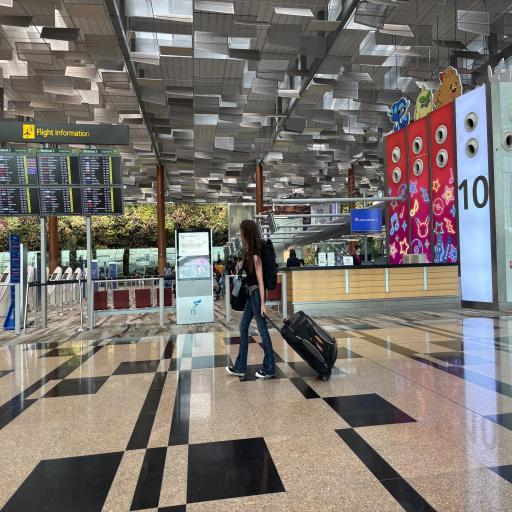person_with_luggage_left: (228, 209, 348, 395)
